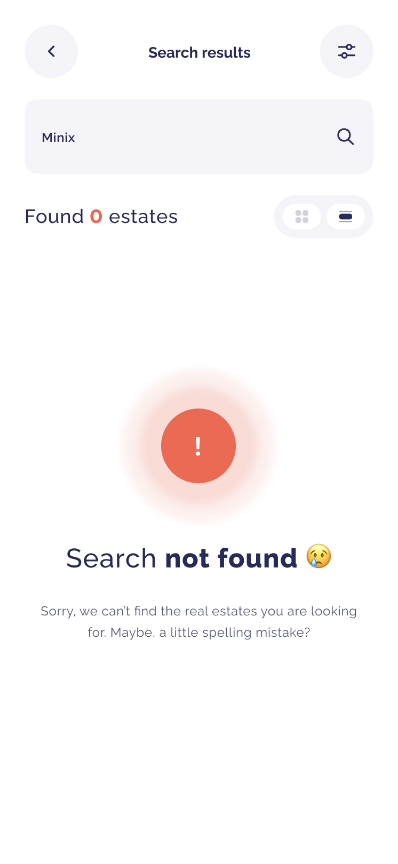IconButton: (20, 22, 81, 80), (316, 22, 375, 78)
